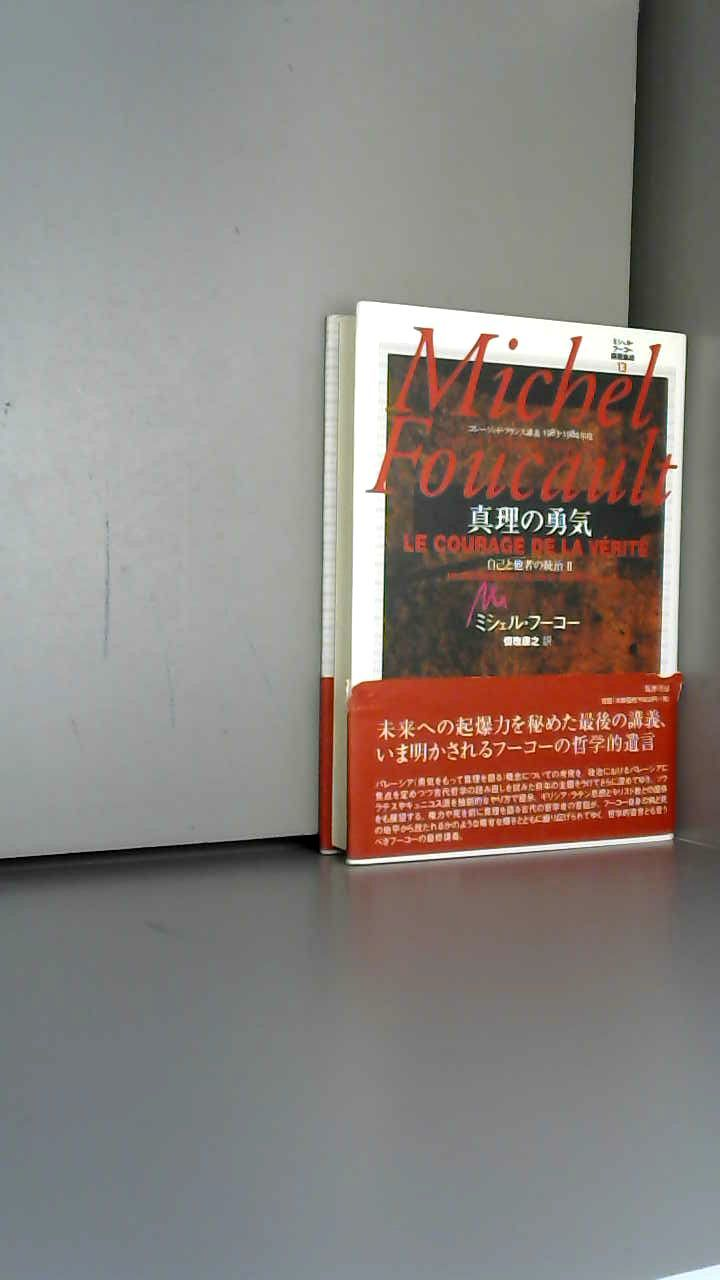book: (300, 270, 720, 879)
